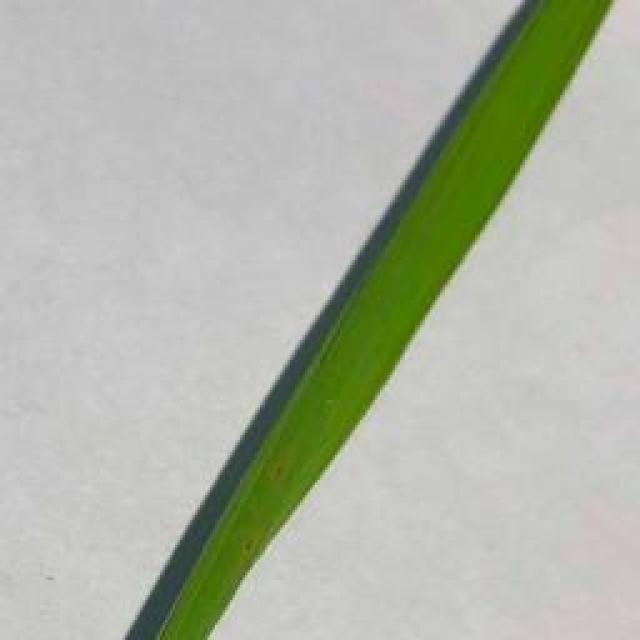Brown_Spot: (237, 529, 264, 569), (272, 448, 296, 478)
